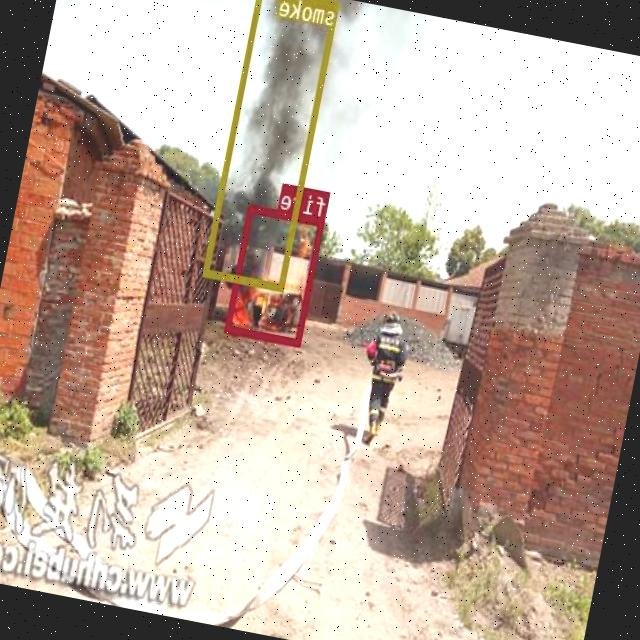fire: (226, 203, 326, 346)
smoke: (204, 0, 341, 290)
